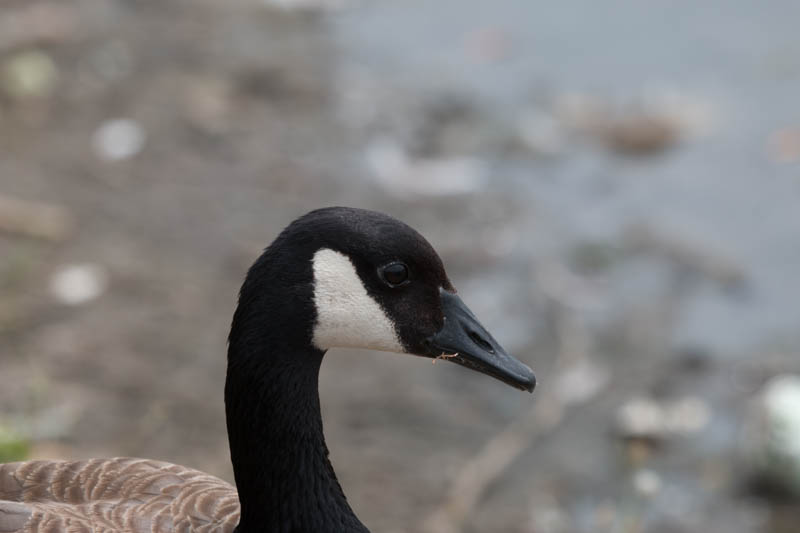goose-head: (230, 206, 538, 395)
